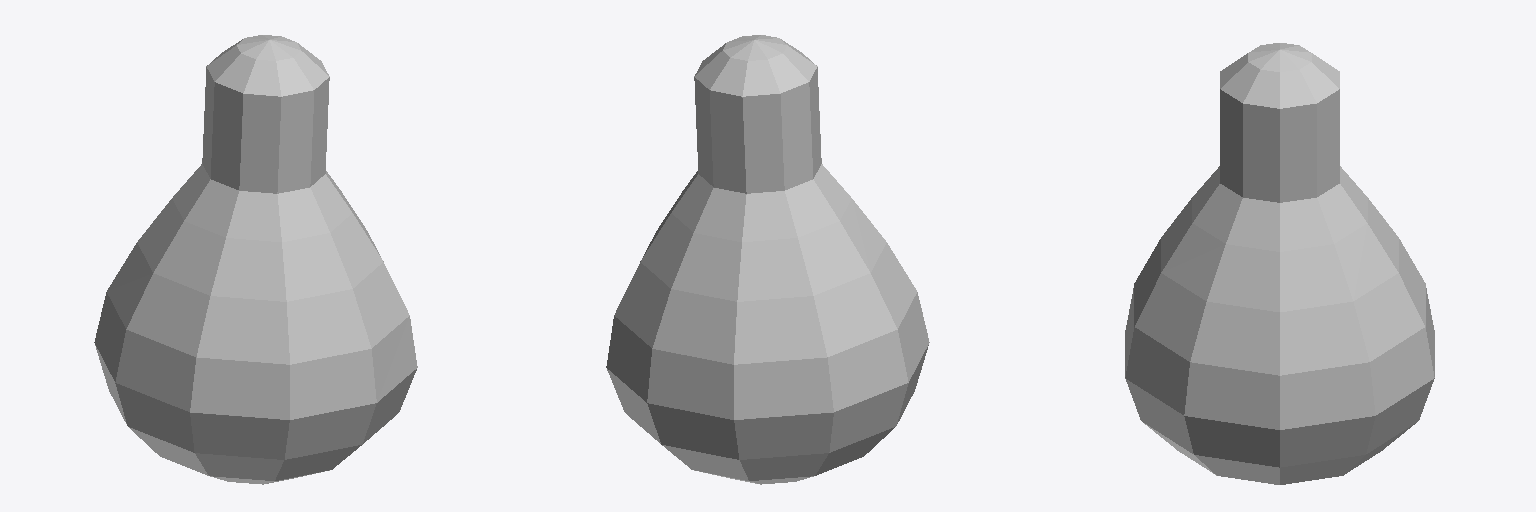
The model's file is bombillo.obj.
3 views of the same model, side by side, from view 1: azimuth 30°, elevation 25°; view 2: azimuth 150°, elevation 25°; view 3: azimuth 270°, elevation 25° (orthographic).
Visible parts, largest first — view 1: polySurface72 polySurface24; view 2: polySurface72 polySurface24; view 3: polySurface72 polySurface24.
Boxes of the visible parts, x1,y1,x2,y2 form: polySurface72 polySurface24: [94, 35, 417, 484]; polySurface72 polySurface24: [606, 35, 929, 484]; polySurface72 polySurface24: [1125, 43, 1434, 484].
Size of the model in its own units: 0.1355 by 0.1959 by 0.129.